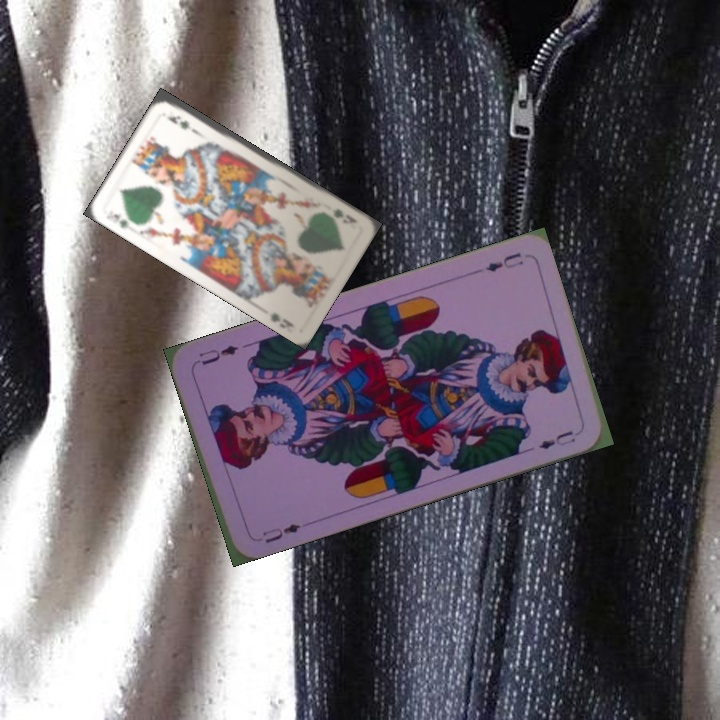EU: (258, 519, 303, 546), (482, 248, 526, 275)
GK: (102, 206, 131, 231), (328, 204, 359, 227)
